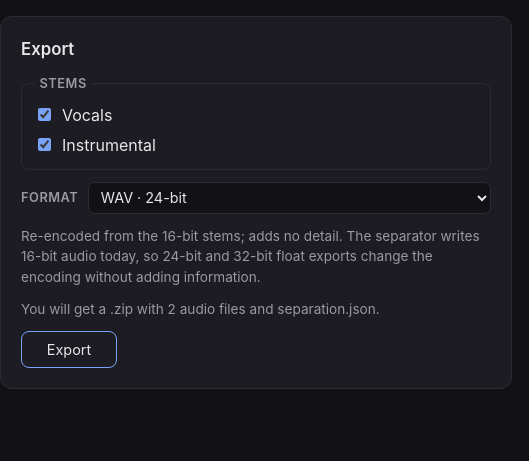
ExportPanel errors › explains a job that is still running
Click the button "Export".
click(69, 350)  # box [21,331,117,368]
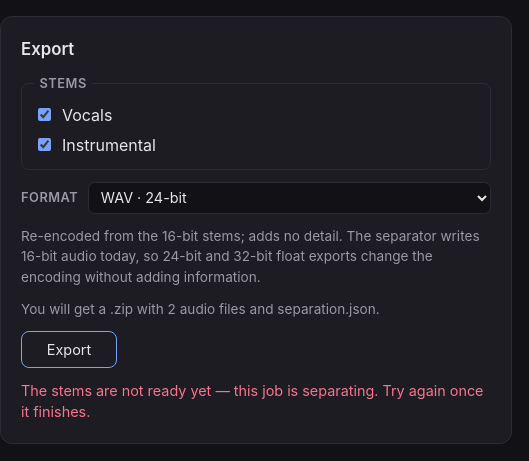
Expected: the message shows "The stems are not ready yet — this job is separating. Try again once it finishes.", [21,382,484,420]
